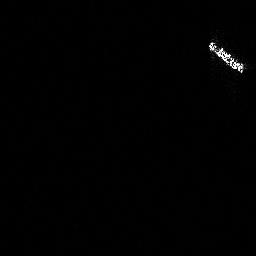ship: (207, 40, 245, 74)
